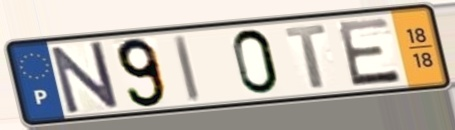0: (230, 27, 283, 98)
9: (114, 36, 170, 110)
E: (334, 15, 405, 89)
I: (171, 32, 203, 104)
N: (47, 38, 122, 117)
T: (282, 22, 330, 91)
